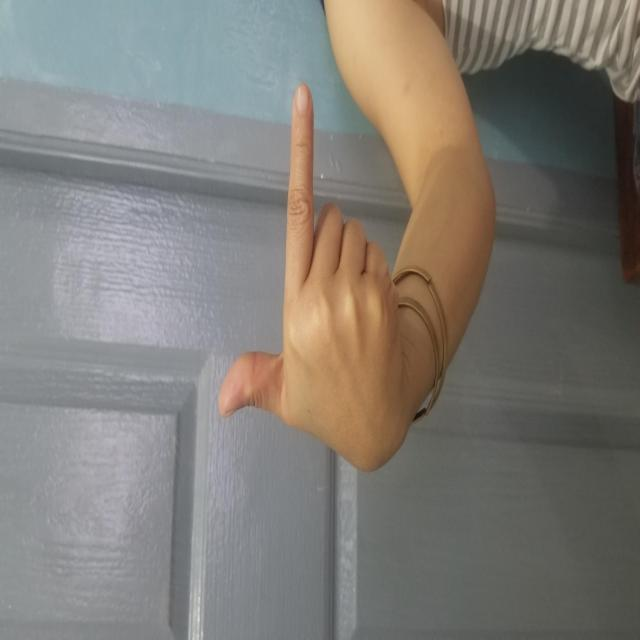G: (168, 216, 556, 410)
